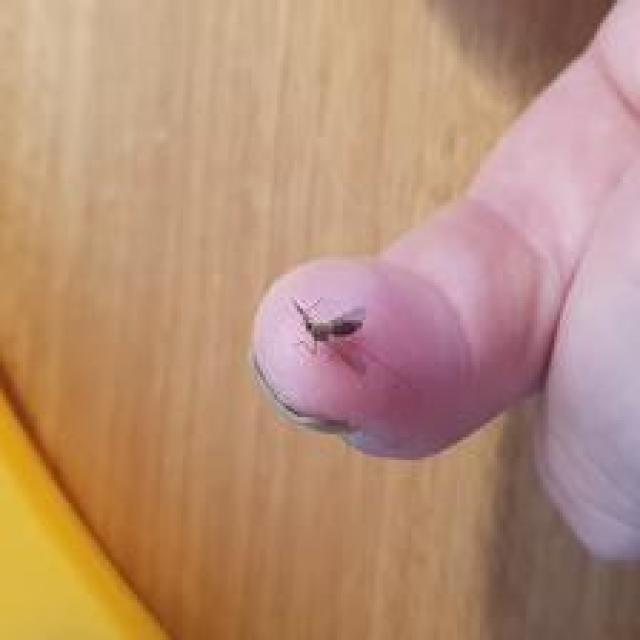Culex: (291, 294, 366, 354)
